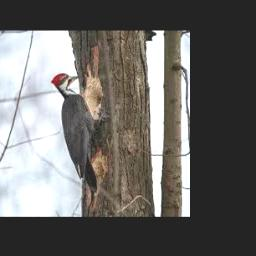Woodpecker: (51, 73, 105, 207)
